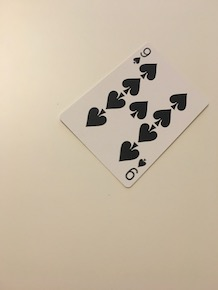NineOfSpades: (56, 41, 211, 188)
